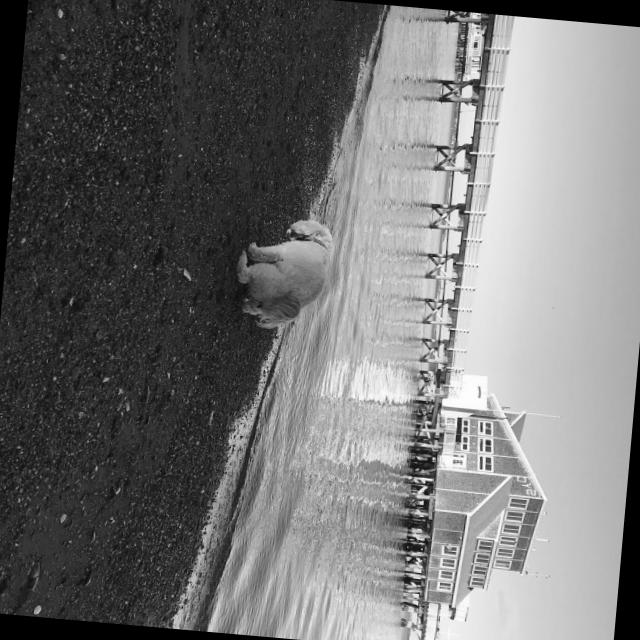squatting: (218, 204, 344, 337)
